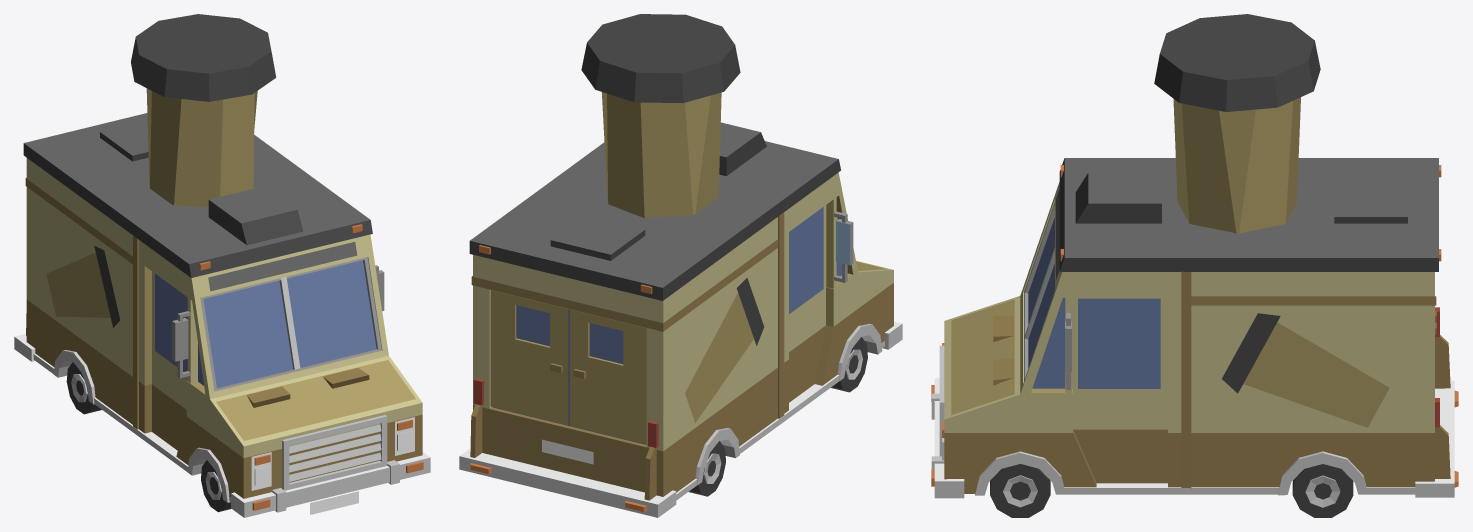
The model's file is transport_bus_010.fbx.
3 renders of one model, left to right at view 1: azimuth 30°, elevation 25°; view 2: azimuth 150°, elevation 25°; view 3: azimuth 270°, elevation 25°, orthographic. The views are drawn at different scales.
Visible parts, largest first — view 1: transport_bus_010; view 2: transport_bus_010; view 3: transport_bus_010.
Boxes of the visible parts, x1,y1,x2,y2 form: transport_bus_010: (14,14,430,517); transport_bus_010: (459,14,902,517); transport_bus_010: (931,14,1458,517).
Bounding box in the file's own units: 202 × 346 × 390.
